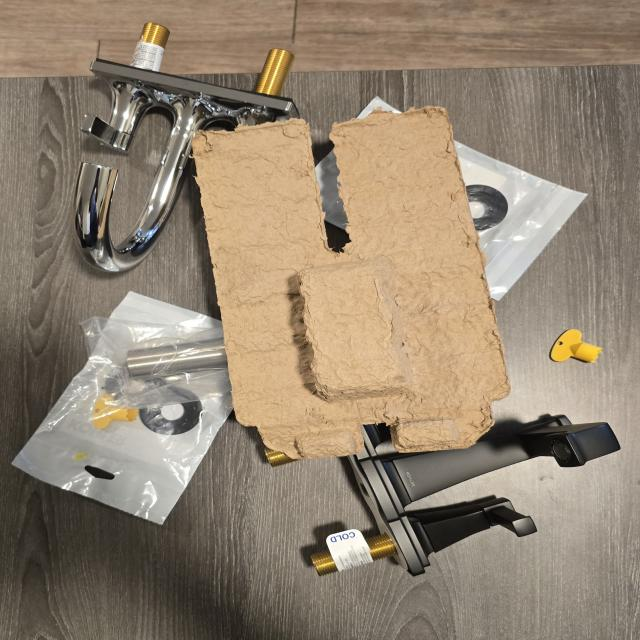10o: (75, 23, 299, 272)
12o: (12, 356, 233, 524), (100, 292, 219, 339)
13o: (455, 141, 586, 301)
14: (549, 329, 601, 363)
9o: (312, 416, 620, 575)
